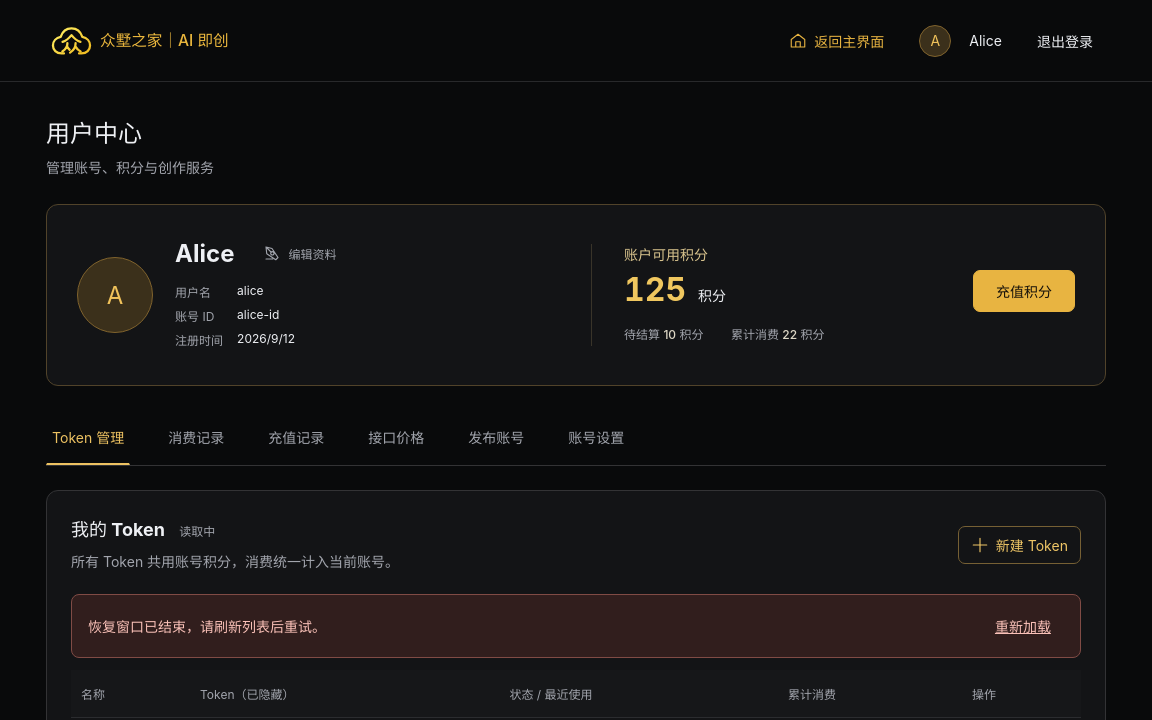
expired default recovery reloads existing credentials instead of looping on the expired key
Expected: the message shows "恢复窗口已结束", left=88, top=618, right=326, bottom=635
Click the button "重新加载": point(1023, 626) left=982, top=607, right=1064, bottom=645
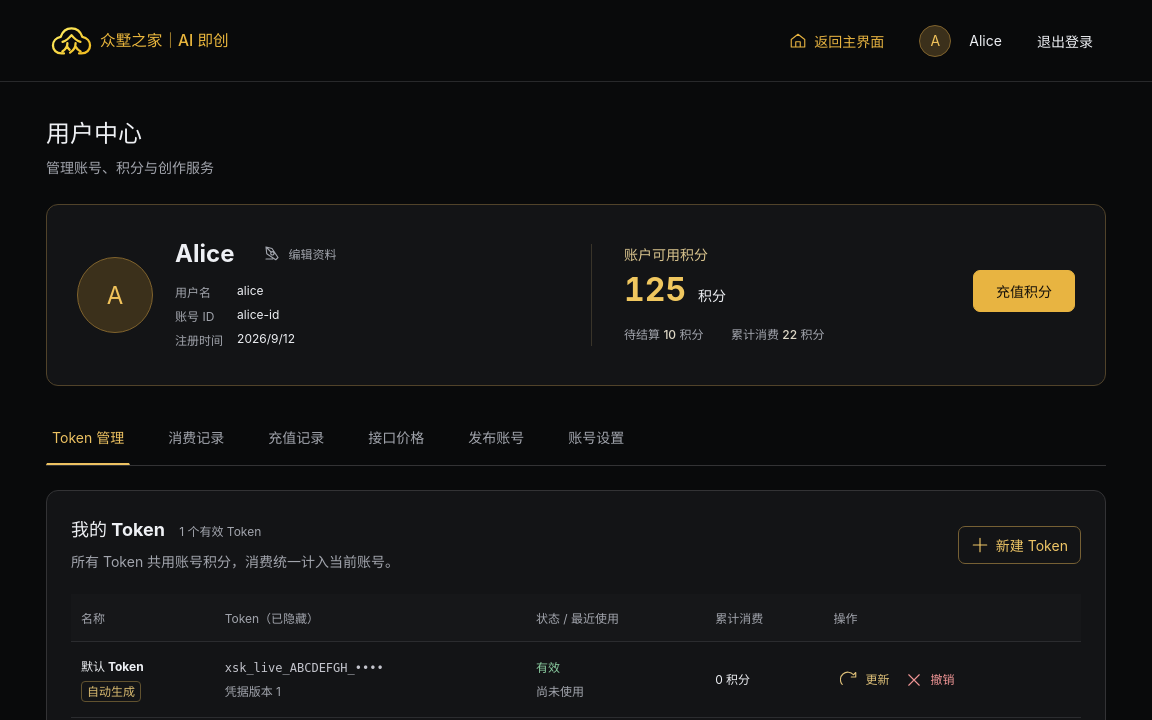
Expected: the text "默认 Token" is shown, left=81, top=659, right=144, bottom=674
